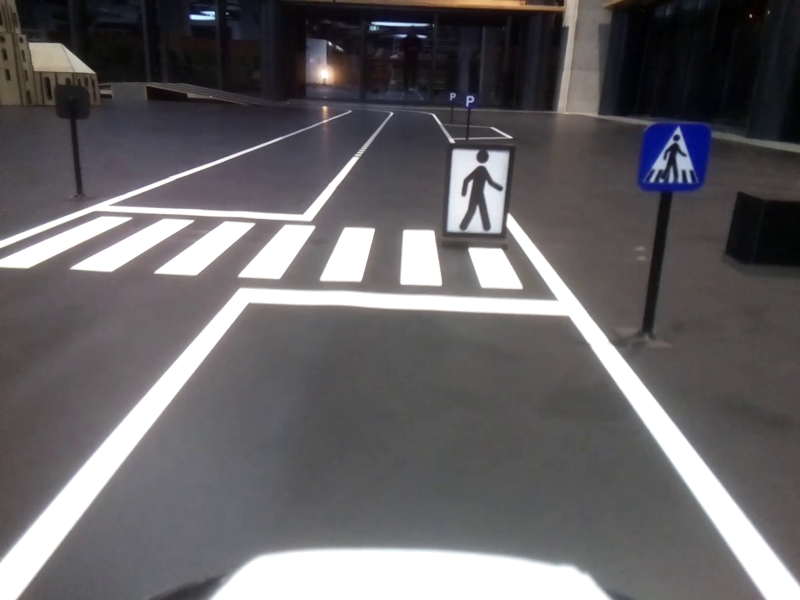pedestrians: (640, 121, 712, 192)
